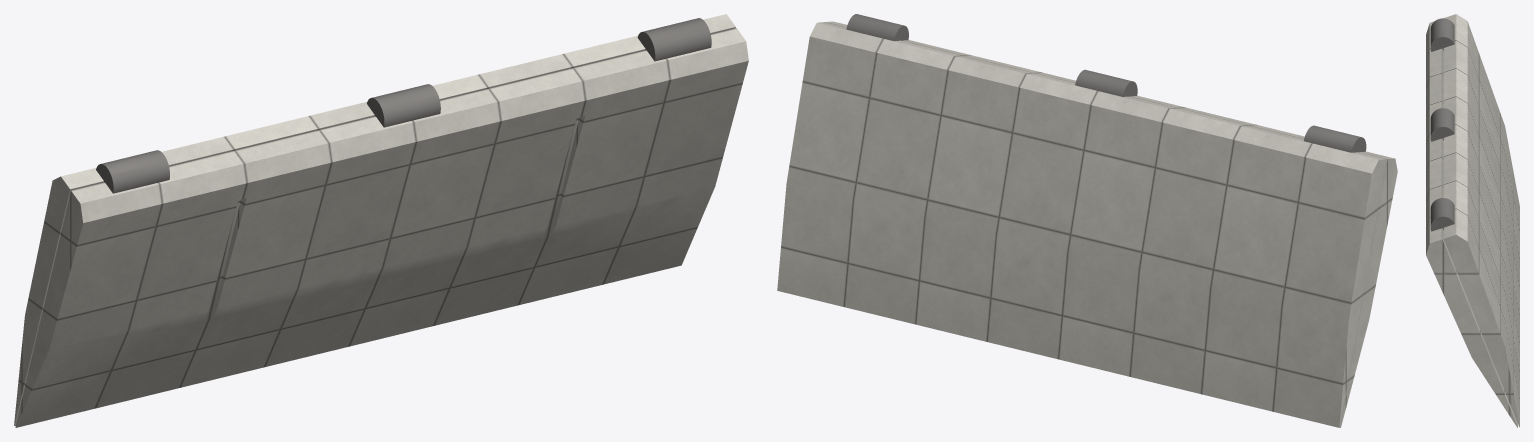
Rendered from ax_aero_24_csr_rudder_brake_s_defl_pos.glb.
3 renders of one model, left to right at view 1: azimuth 30°, elevation 25°; view 2: azimuth 150°, elevation 25°; view 3: azimuth 270°, elevation 25°, orthographic. The views are drawn at different scales.
Visible parts, largest first — view 1: surface_upper, surface_lower, hinge_fittings; view 2: surface_lower, surface_upper, hinge_fittings; view 3: surface_lower, surface_upper, hinge_fittings.
Part boxes in pixels (<box>): surface_upper: <box>15,28,748,427</box>; surface_lower: <box>14,14,735,425</box>; hinge_fittings: <box>96,18,711,193</box>; surface_lower: <box>777,22,1386,427</box>; surface_upper: <box>825,21,1397,427</box>; hinge_fittings: <box>846,14,1366,152</box>; surface_lower: <box>1443,14,1519,427</box>; surface_upper: <box>1426,21,1517,427</box>; hinge_fittings: <box>1430,18,1454,231</box>.
Size of the model in its own units: 1.18 by 0.4989 by 0.2123.
2 materials, 2 textured.
